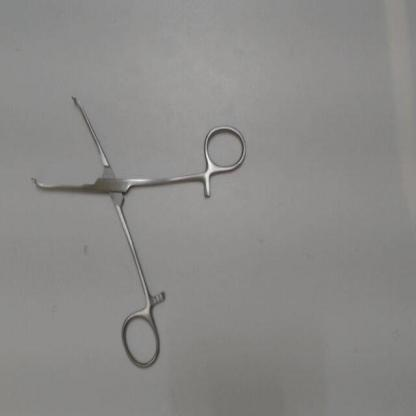Allis Tissue Forceps: (24, 83, 254, 382)
